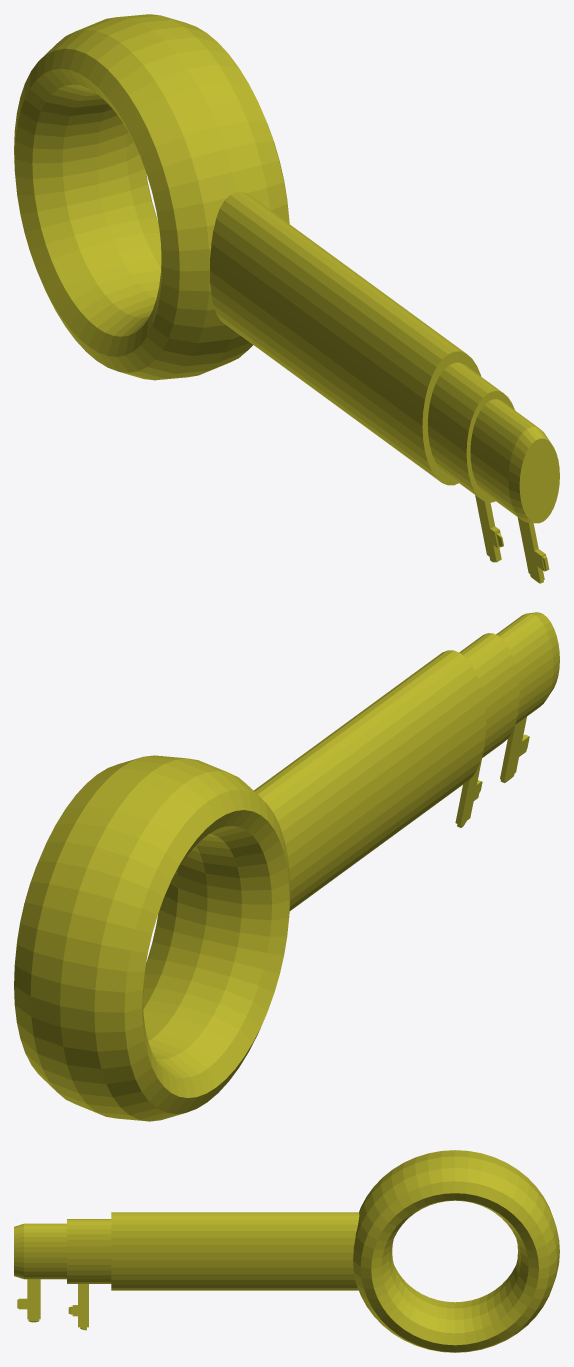
Rendered from storeroom_key.glb.
3 renders of one model, top to bottom at view 1: azimuth 30°, elevation 25°; view 2: azimuth 150°, elevation 25°; view 3: azimuth 270°, elevation 25°, orthographic. The views are drawn at different scales.
Visible parts, largest first — view 1: Torus; view 2: Torus; view 3: Torus.
Boxes of the visible parts, bbox=[...] form: Torus: bbox=[14, 14, 559, 583]; Torus: bbox=[14, 612, 559, 1121]; Torus: bbox=[14, 1150, 559, 1352].
Size of the model in its own units: 0.1 by 0.25 by 0.6508.
